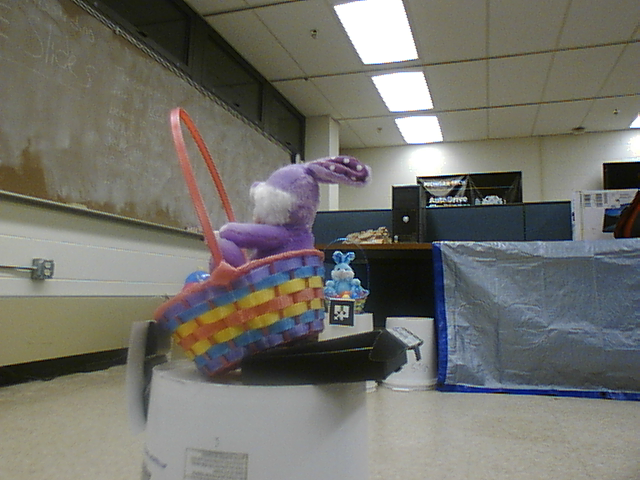bunny: (154, 100, 352, 376), (322, 231, 373, 313)
